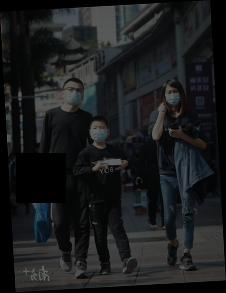with_mask: (63, 86, 84, 107), (89, 125, 108, 143), (165, 89, 182, 107)
